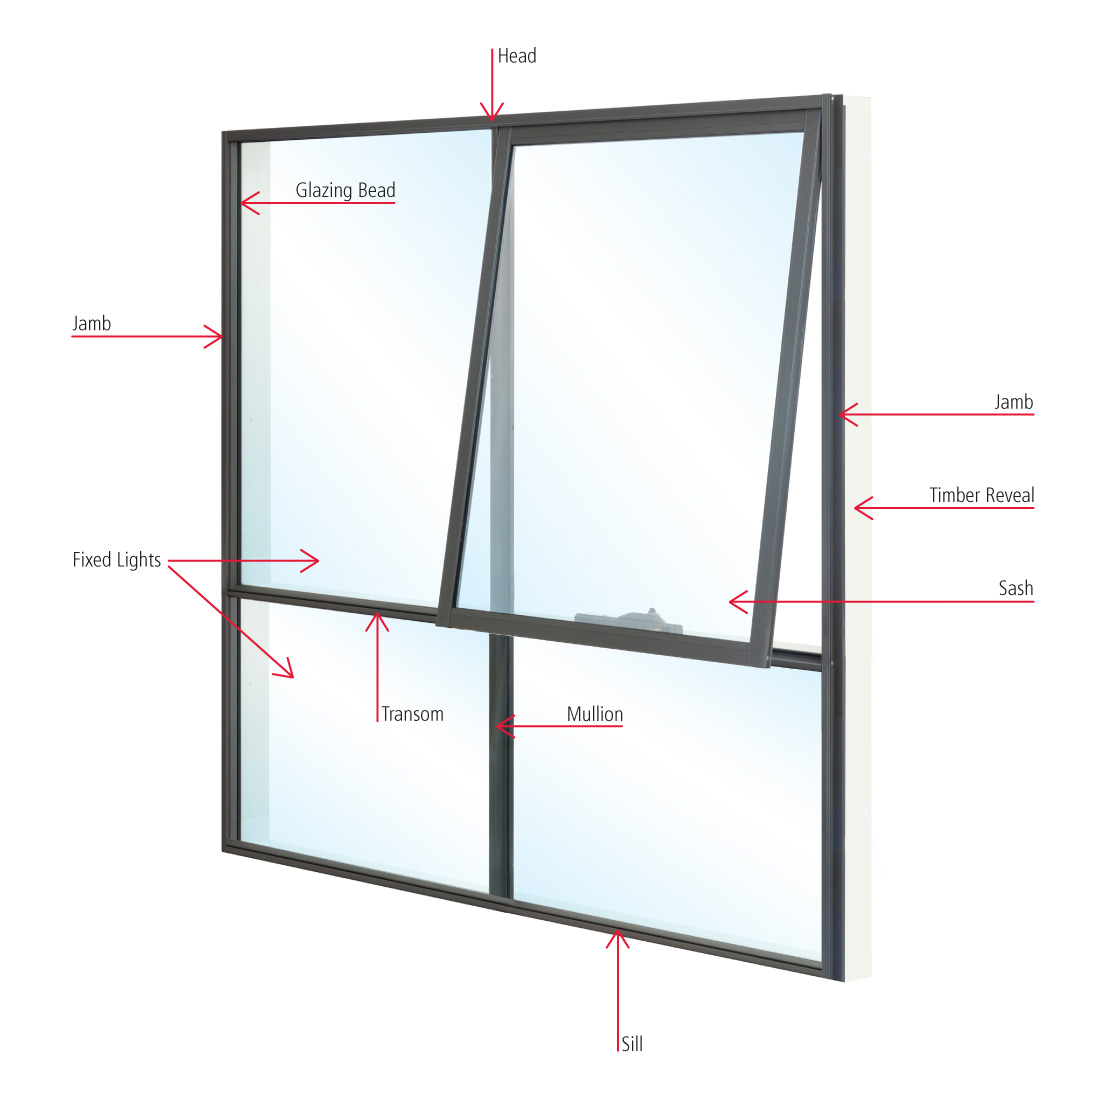Window: (225, 98, 843, 875)
